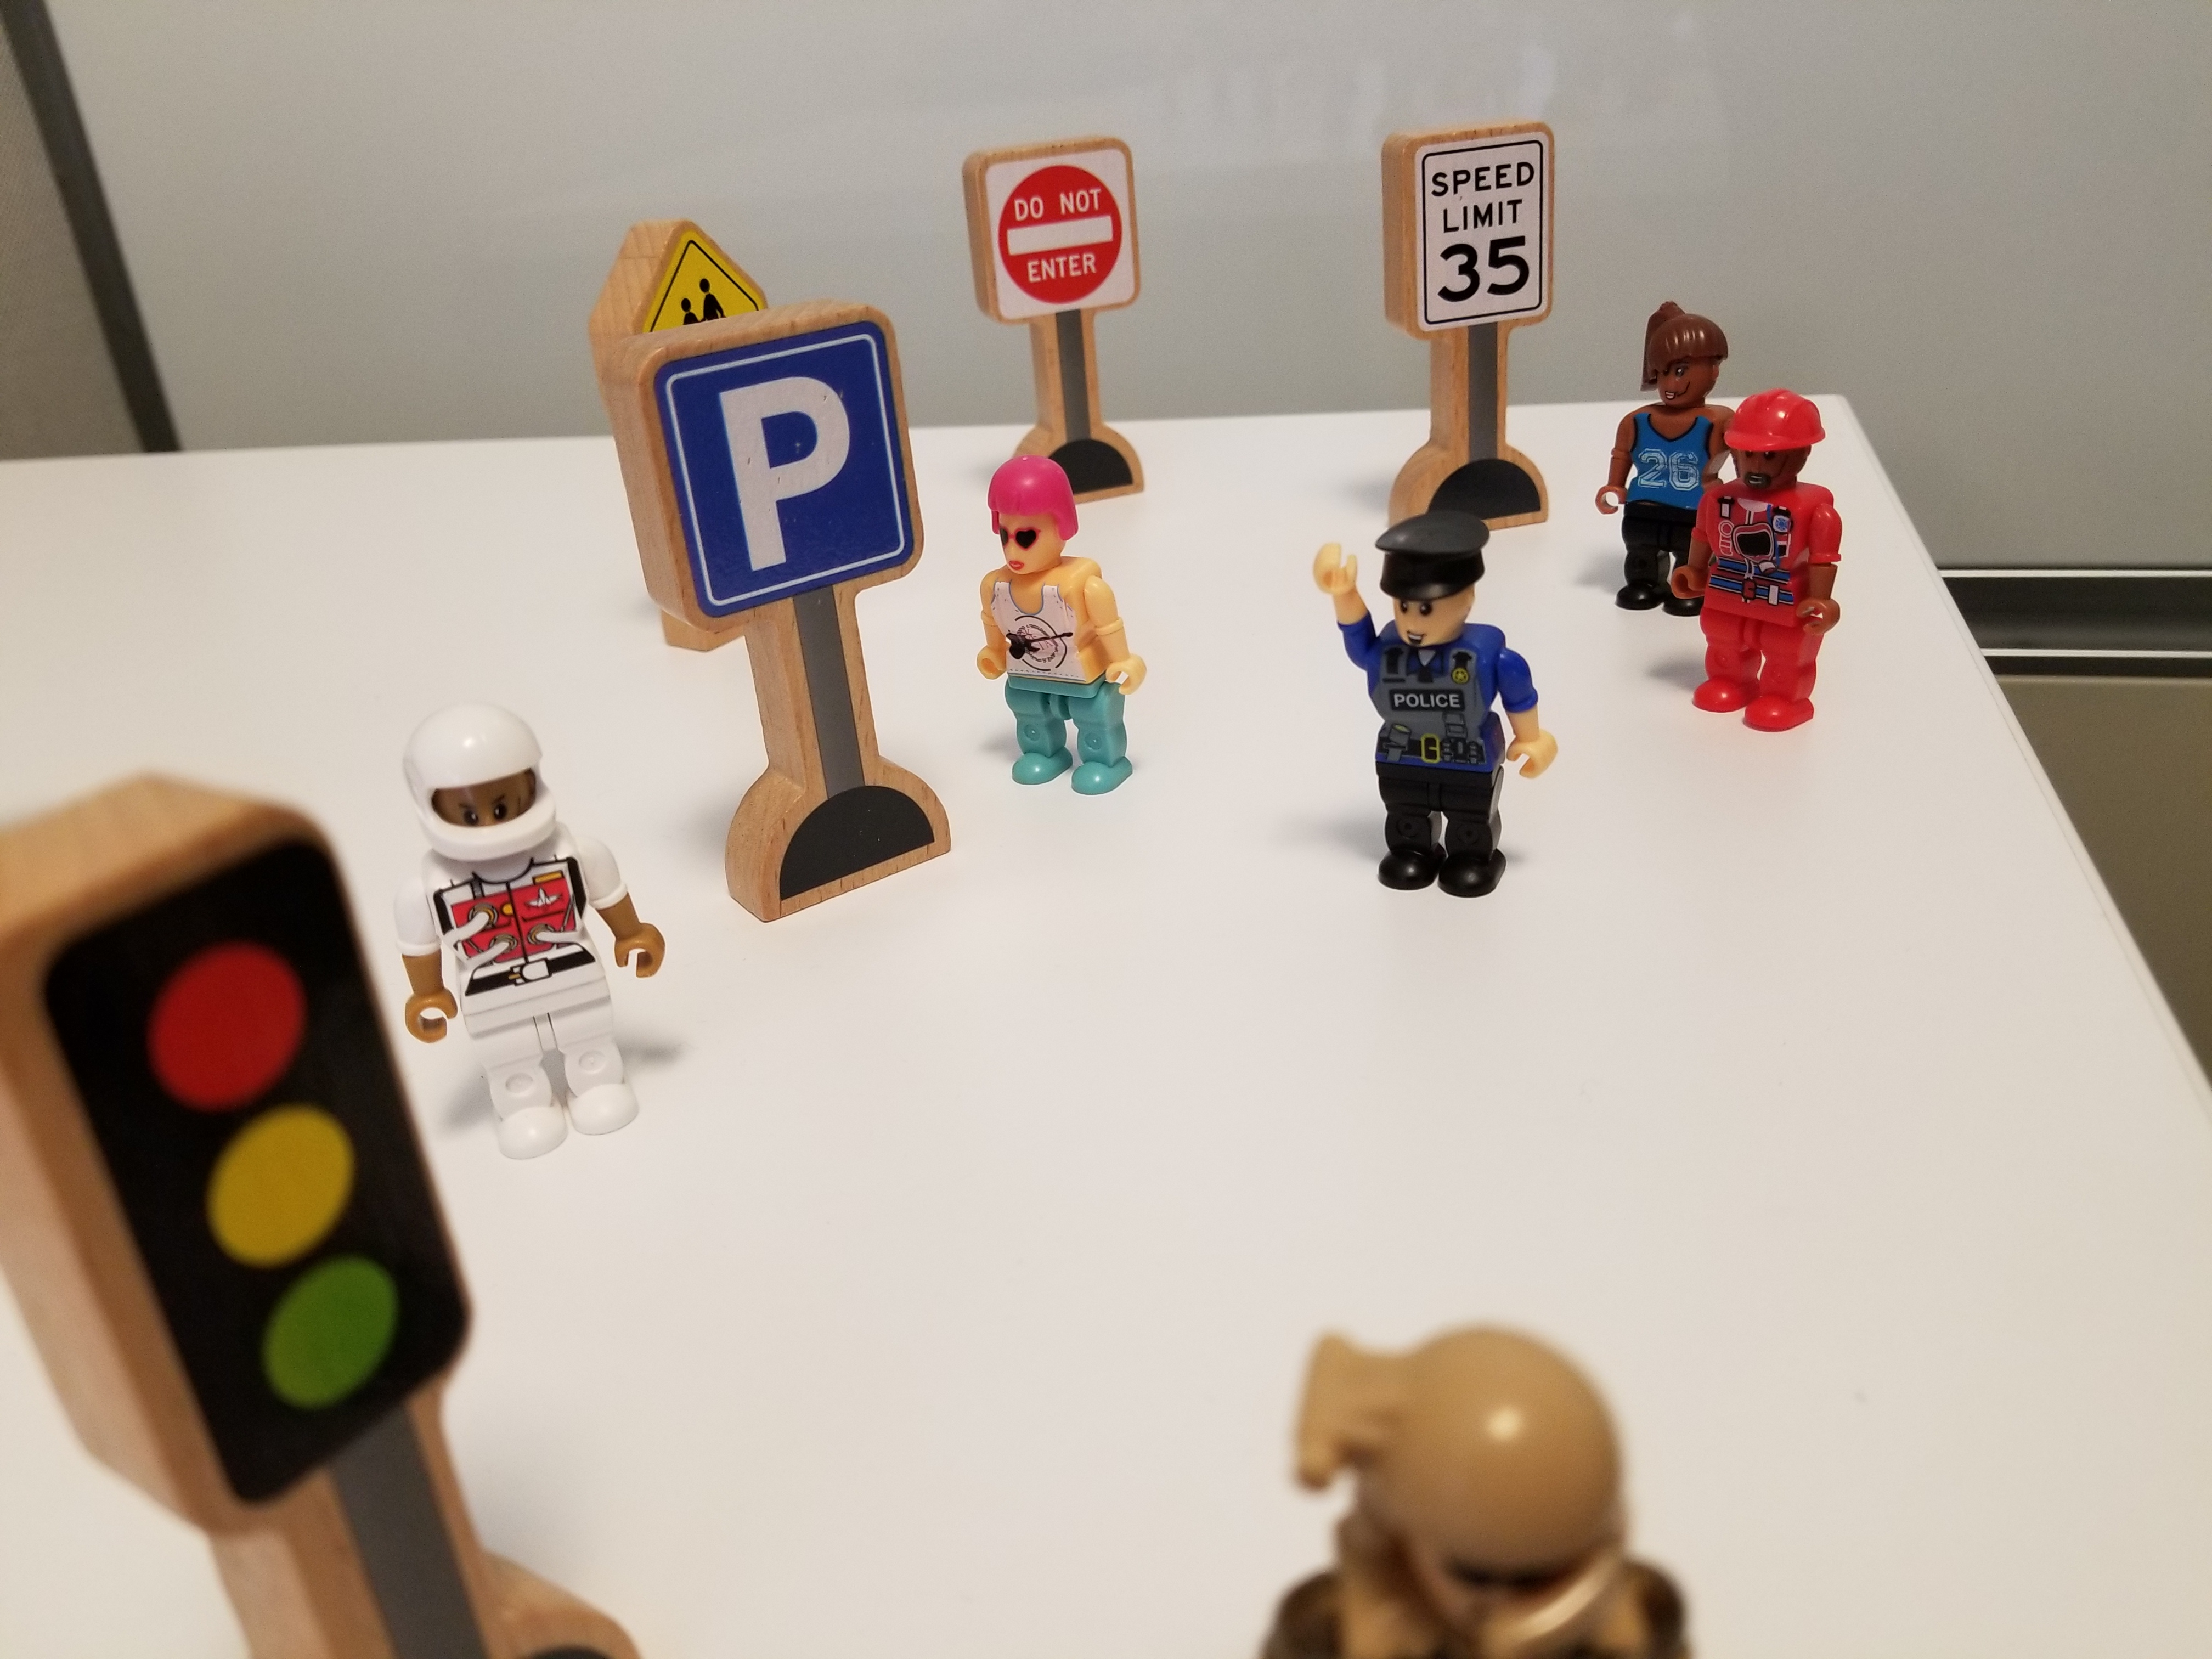Do not enter: (951, 117, 1160, 392)
Parking: (627, 321, 997, 793)
Speed limit 35: (1364, 95, 1570, 422)
Traffic Light: (1, 778, 460, 1496)
person: (350, 668, 723, 1162), (1291, 488, 1588, 938), (960, 449, 1158, 833), (1673, 379, 1851, 800), (1603, 269, 1724, 640)
